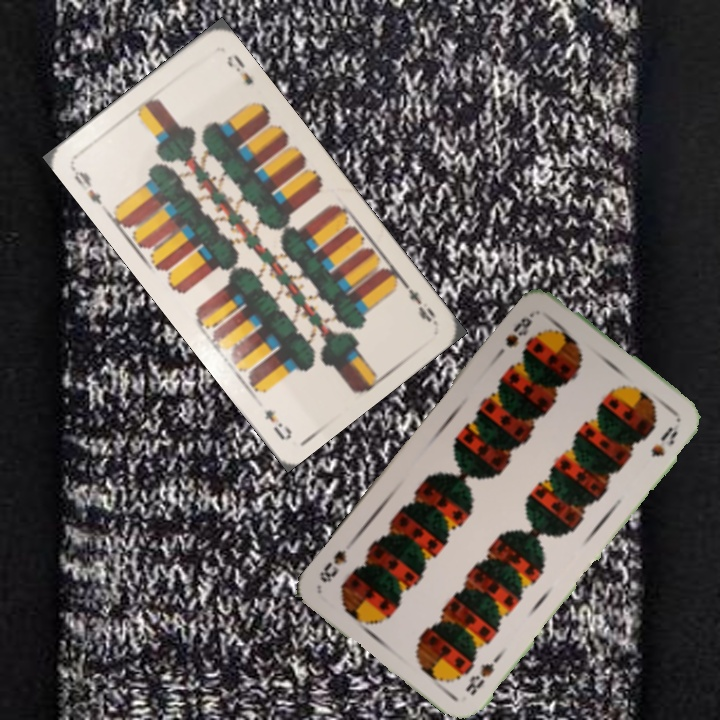E9: (397, 275, 439, 326), (68, 163, 105, 208)
S8: (461, 649, 505, 699), (501, 308, 537, 351)
